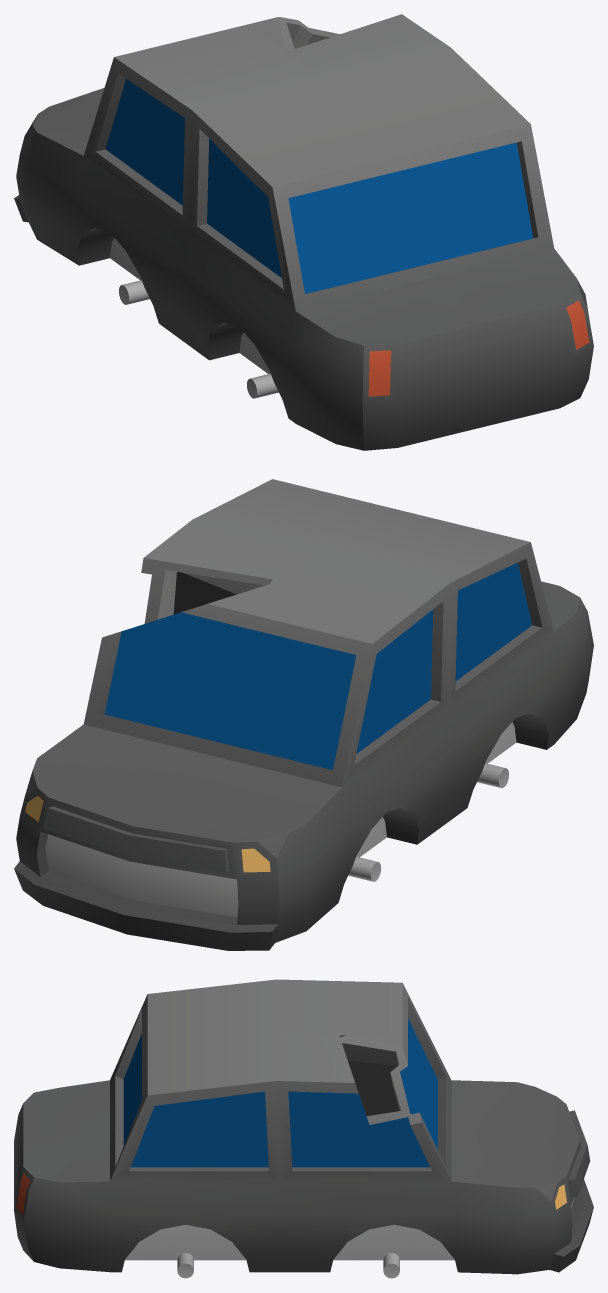
The model's file is RuinedCar.fbx.
The picture shows the model from 3 angles, top to bottom: view 1: azimuth 30°, elevation 25°; view 2: azimuth 150°, elevation 25°; view 3: azimuth 270°, elevation 25°; orthographic projection. The views are drawn at different scales.
Parts seen in each view (by area): view 1: RuinedCar; view 2: RuinedCar; view 3: RuinedCar.
Boxes of the visible parts, bbox=[...] form: RuinedCar: bbox=[14, 14, 593, 450]; RuinedCar: bbox=[14, 479, 593, 950]; RuinedCar: bbox=[14, 979, 593, 1278].
Bounding box in the file's own units: 1.96 × 4.28 × 1.62.
